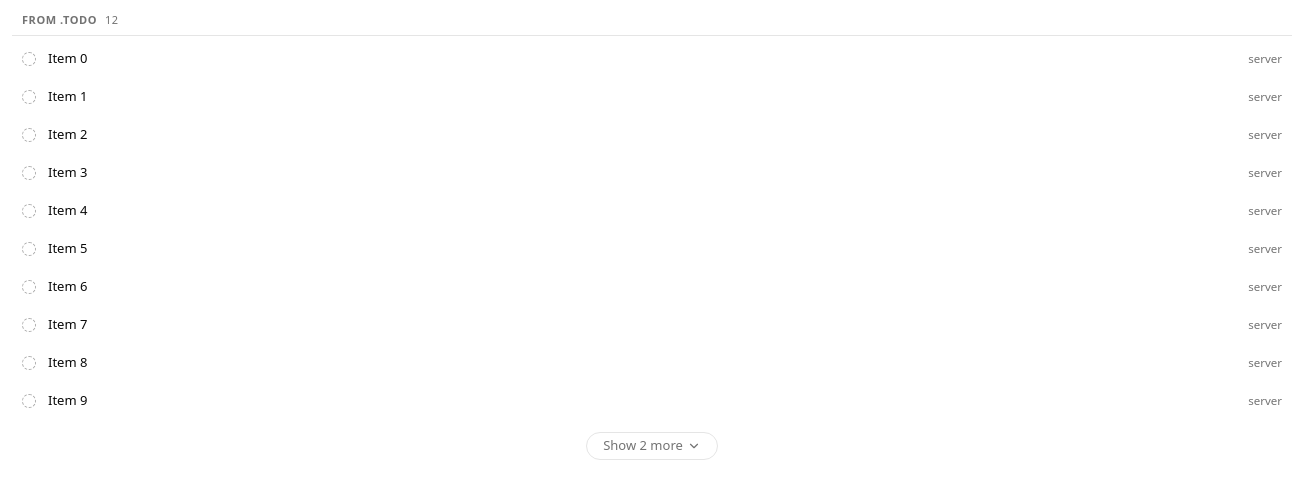
Scenario: shows 10 items, then the rest on request
The image size is (1304, 501).
Check: the text "Item 9" is shown, box [48,391,87,409]
Check: the text "Item 10" is not shown
Click the button "Show 2 more" at [652, 446], box [586,432,718,460]
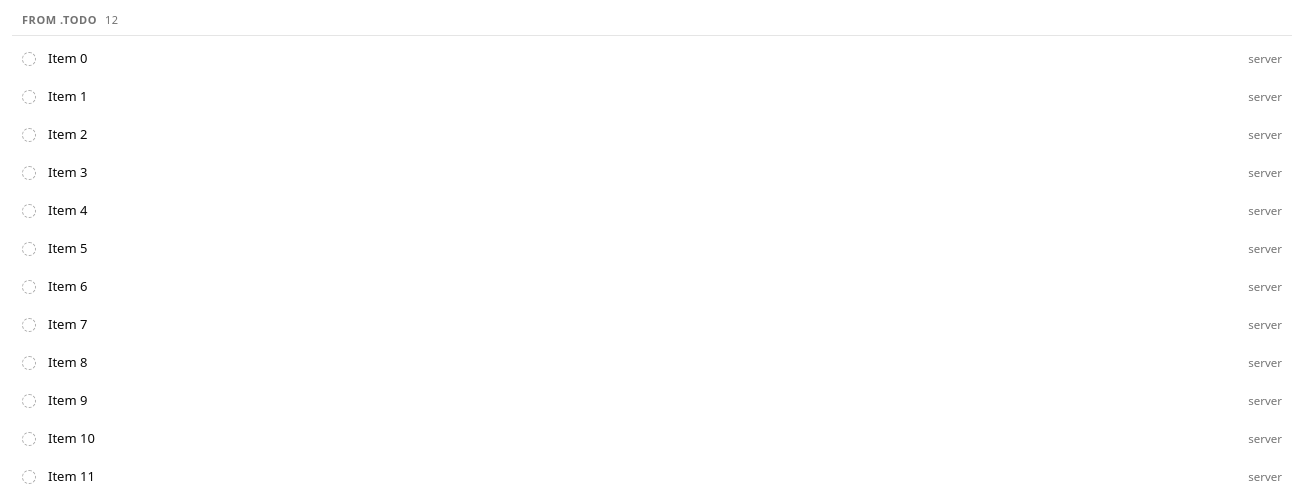
Check: the text "Item 11" is shown, box [48,467,95,485]
